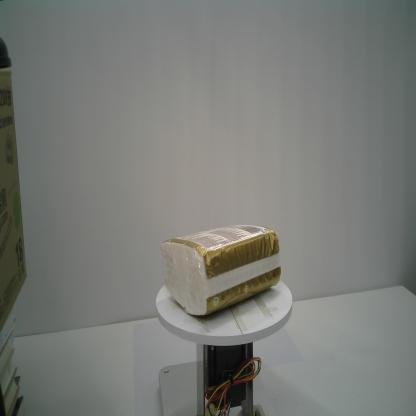Tissue: (160, 223, 282, 316)
